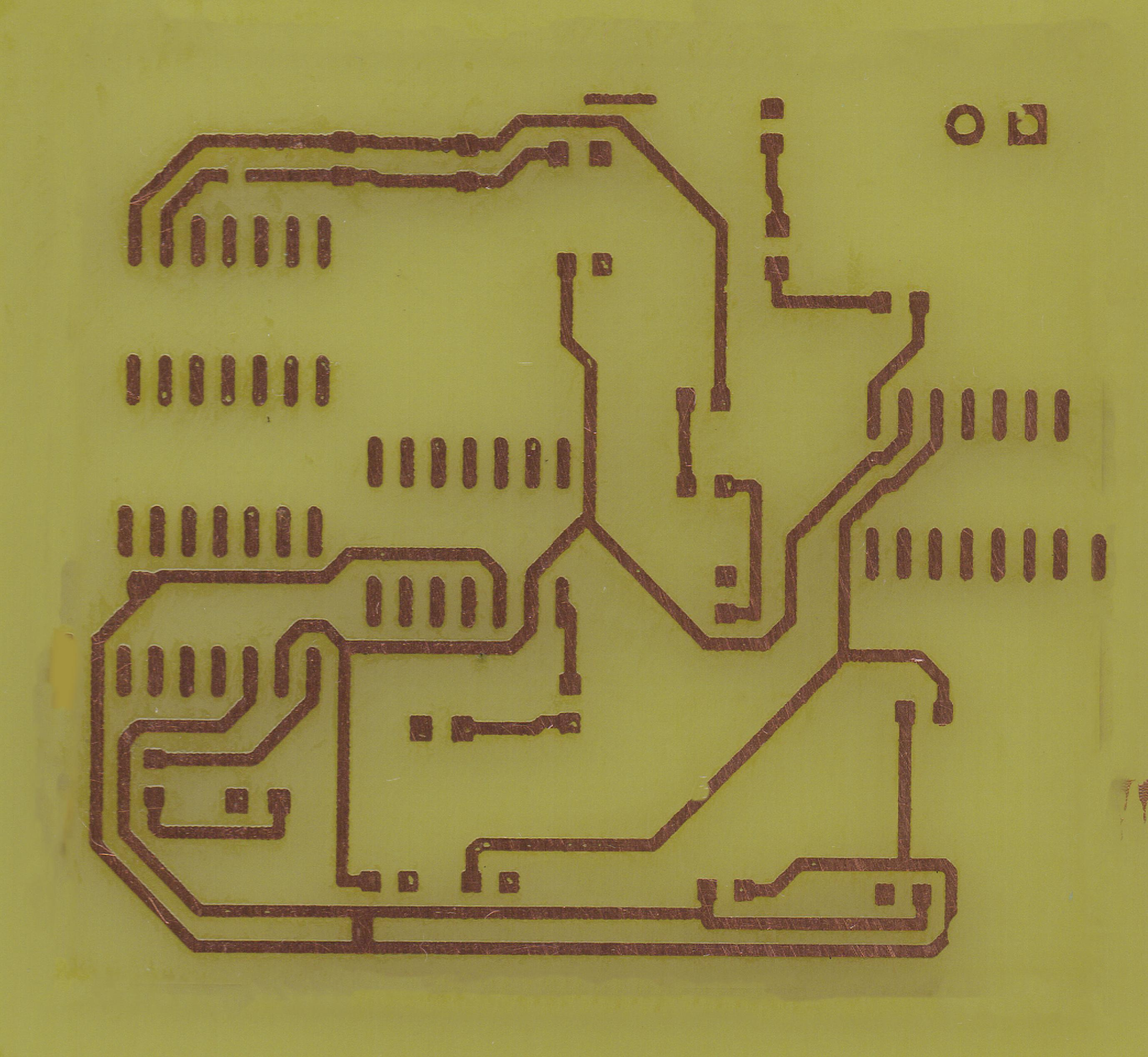missing_hole: (1002, 103, 1052, 146)
mouse_bite: (691, 783, 721, 808), (946, 912, 959, 947)
open_circuit: (217, 166, 256, 185)
short: (346, 905, 380, 957)
spur: (123, 567, 166, 611)
spurious_copper: (583, 90, 658, 108)
